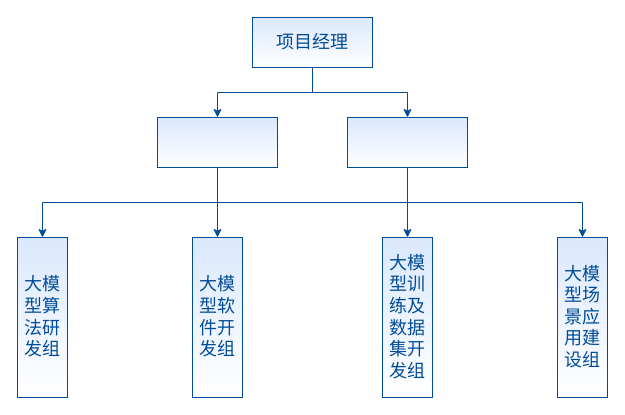
The diagram is 625 pixels wide and 415 high, and some of its shapes have lost their labels. The shapes that lost their labels are listed below. From the top down, each one's centre as x and y in pixels, then its label:
At point 217,142: "项目总工程师".
At point 407,142: "技术负责人".
